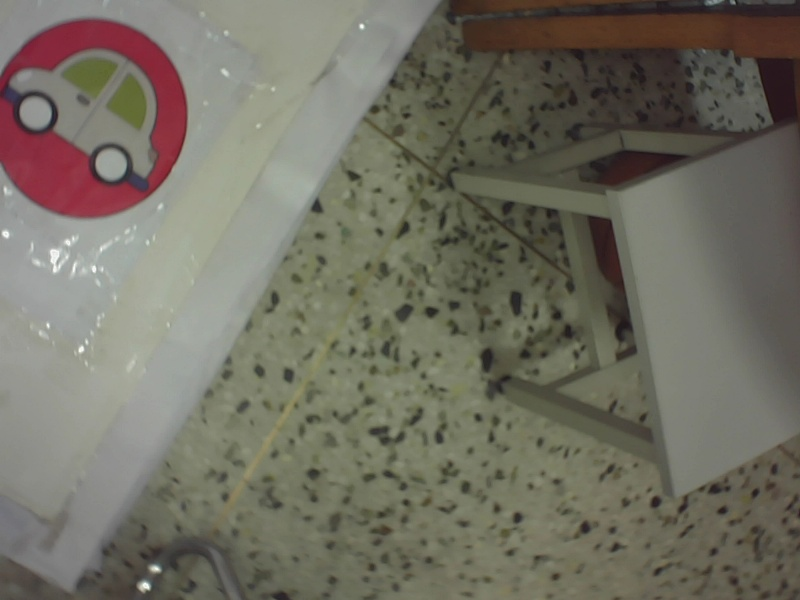areaC: (3, 13, 202, 226)
